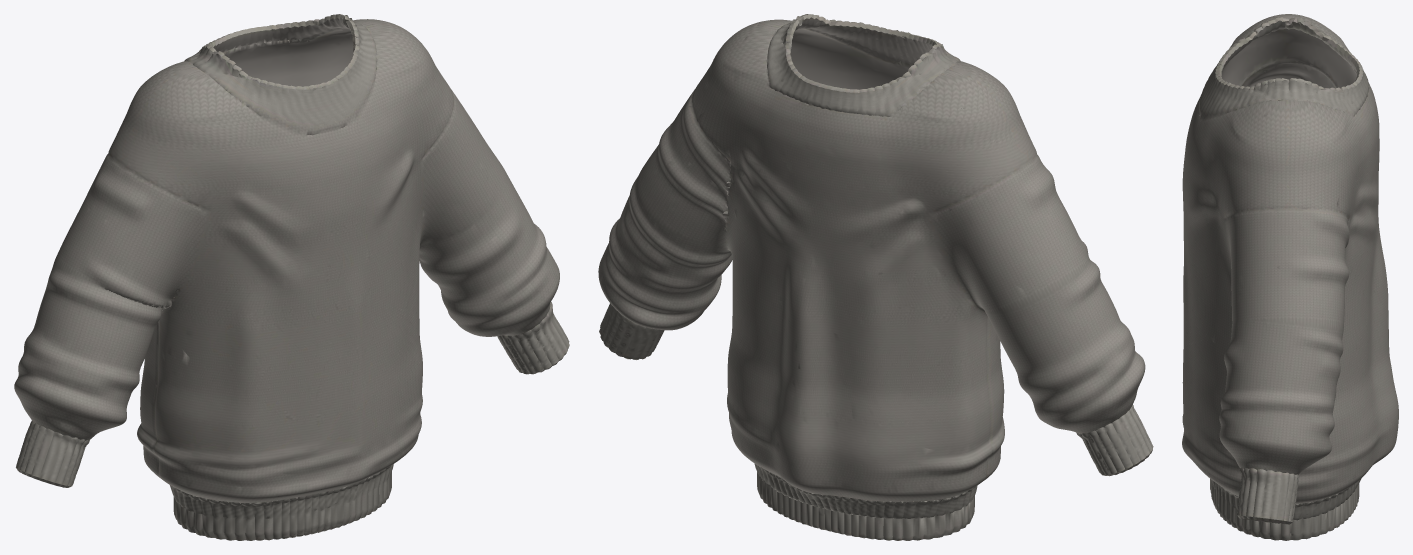
Rendered from 06_jersey_oversize_pbr.glb.
3 renders of one model, left to right at view 1: azimuth 30°, elevation 25°; view 2: azimuth 150°, elevation 25°; view 3: azimuth 270°, elevation 25°, orthographic. The views are drawn at different scales.
Visible parts, largest first — view 1: Camiseta PBR; view 2: Camiseta PBR; view 3: Camiseta PBR.
Boxes of the visible parts, <box> form: Camiseta PBR: <box>14,14,569,540</box>; Camiseta PBR: <box>598,14,1153,540</box>; Camiseta PBR: <box>1182,14,1398,540</box>.
Bounding box in the file's own units: 1.01 × 0.8373 × 0.3664.
1 material, 1 textured.
